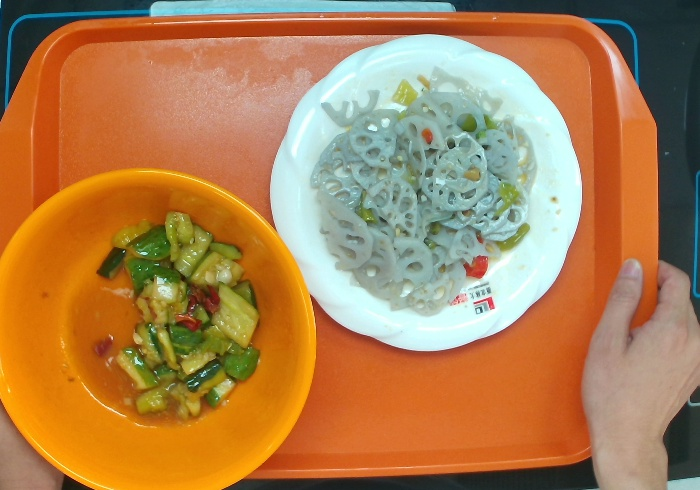ZNLD-Hua_Bian_Wan: (270, 33, 586, 355)
ZNLD-Ju_Se_Tang_Wan: (1, 161, 316, 490)
